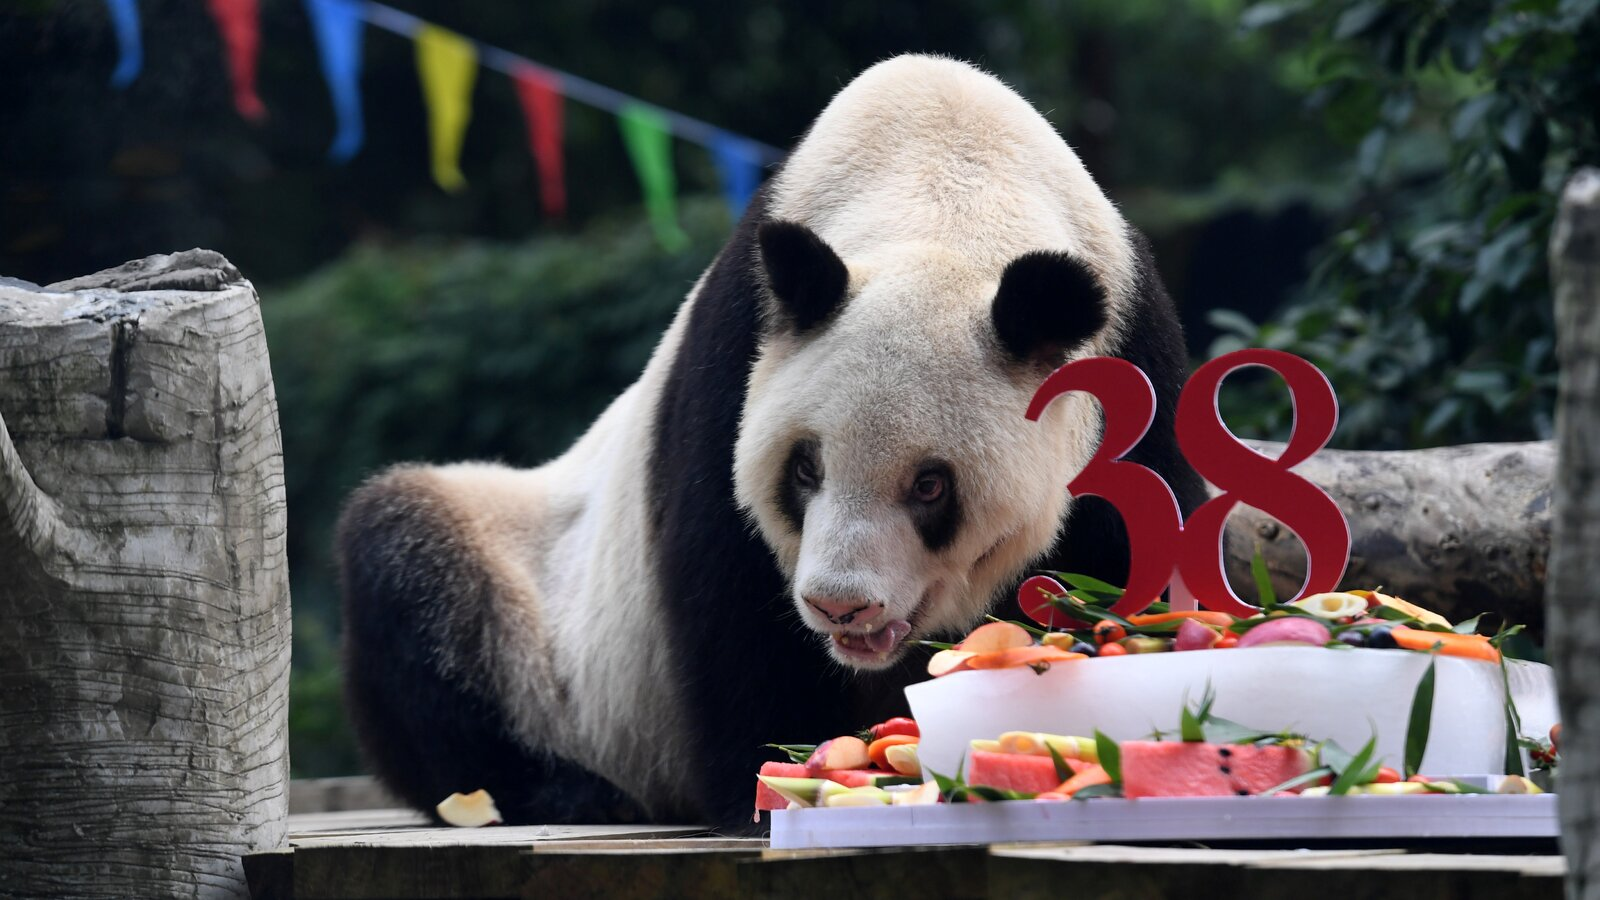panda: (292, 49, 1279, 825)
